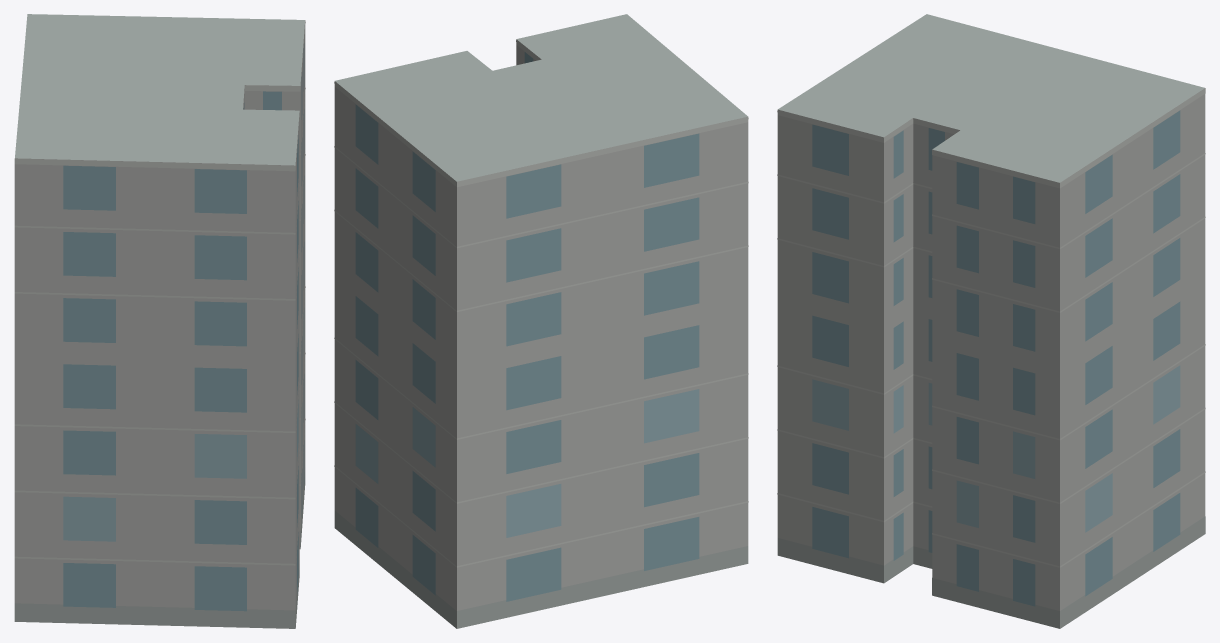
Rendered from survey-upis-33002546.glb.
3 views of the same model, side by side, from view 1: azimuth 30°, elevation 25°; view 2: azimuth 150°, elevation 25°; view 3: azimuth 270°, elevation 25° (orthographic). The views are drawn at different scales.
Visible parts, largest first — view 1: survey-upis-33002546.tmp; view 2: survey-upis-33002546.tmp; view 3: survey-upis-33002546.tmp.
Part boxes in pixels (x1,y1,x2,y2): survey-upis-33002546.tmp: [14, 14, 305, 628]; survey-upis-33002546.tmp: [334, 14, 748, 628]; survey-upis-33002546.tmp: [777, 14, 1205, 628].
Bounding box in the file's own units: 15.82 × 19.45 × 16.93.
